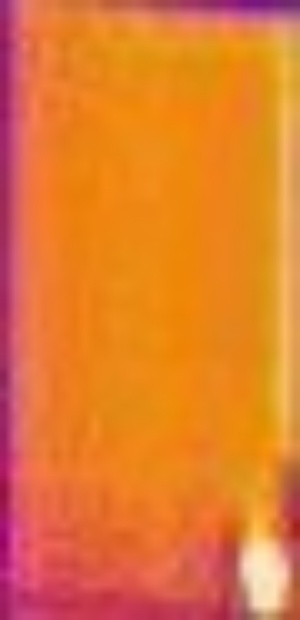Hotspot: (233, 518, 300, 617)
